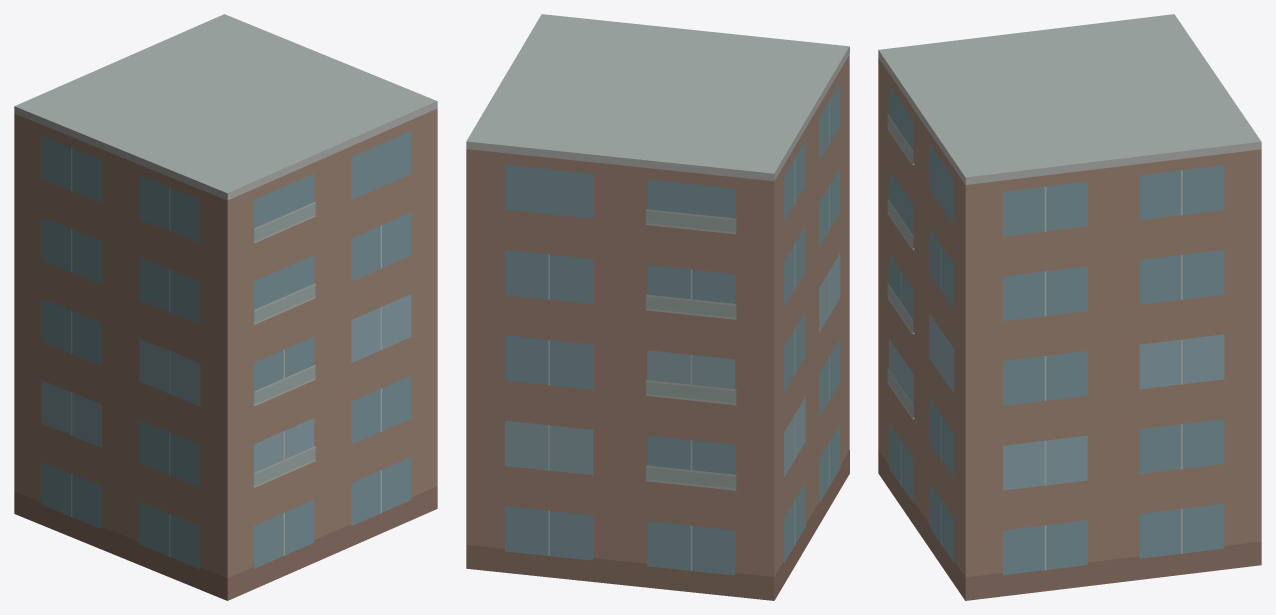
File: survey-upis-32611065.glb
The picture shows the model from 3 angles, left to right: view 1: azimuth 30°, elevation 25°; view 2: azimuth 150°, elevation 25°; view 3: azimuth 270°, elevation 25°; orthographic projection. The views are drawn at different scales.
Parts seen in each view (by area): view 1: survey-upis-32611065.tmp; view 2: survey-upis-32611065.tmp; view 3: survey-upis-32611065.tmp.
Part boxes in pixels (x1,y1,x2,y2): survey-upis-32611065.tmp: (14,14,437,600); survey-upis-32611065.tmp: (466,14,849,600); survey-upis-32611065.tmp: (878,14,1261,600).
Bounding box in the file's own units: 11.32 × 13.65 × 11.21.
